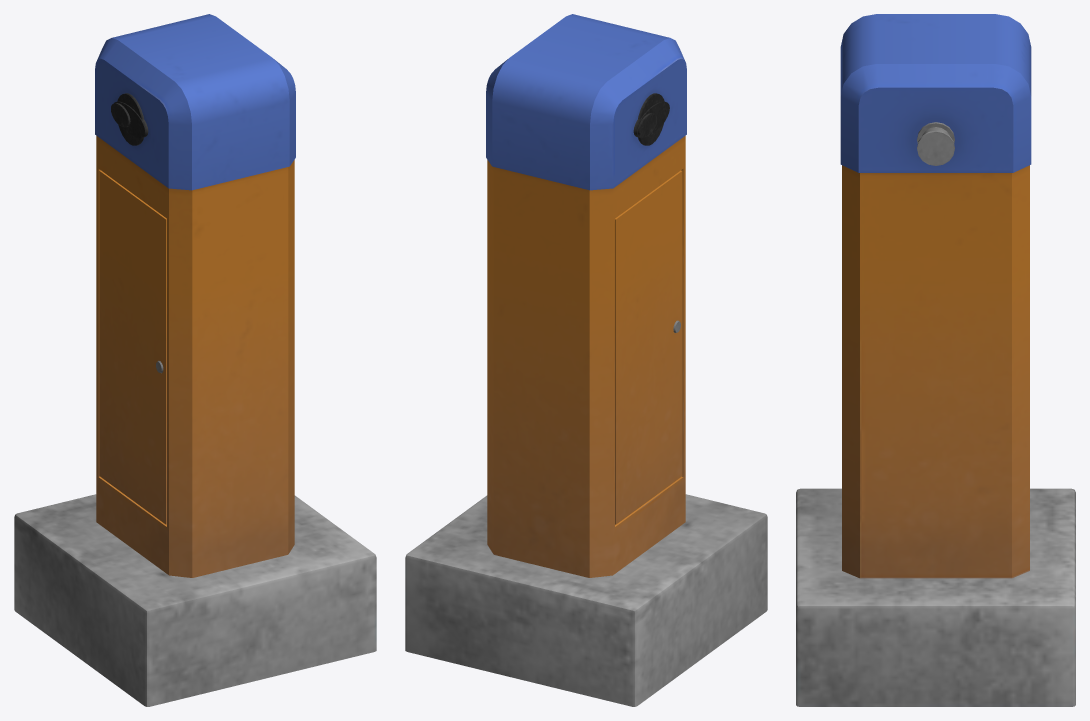
Rendered from SM_GateBarrier_1.fbx.
The picture shows the model from 3 angles, left to right: view 1: azimuth 30°, elevation 25°; view 2: azimuth 150°, elevation 25°; view 3: azimuth 270°, elevation 25°; orthographic projection. The views are drawn at different scales.
Parts seen in each view (by area): view 1: SM_GateBarrier_1_LOD0; view 2: SM_GateBarrier_1_LOD0; view 3: SM_GateBarrier_1_LOD0.
Boxes of the visible parts, box(x1,y1,x2,y2) form: SM_GateBarrier_1_LOD0: box(14, 14, 376, 706); SM_GateBarrier_1_LOD0: box(405, 14, 767, 706); SM_GateBarrier_1_LOD0: box(796, 14, 1075, 706).
Size of the model in its own units: 50 by 50 by 120.
Materials: 1 (1 with a texture image).
